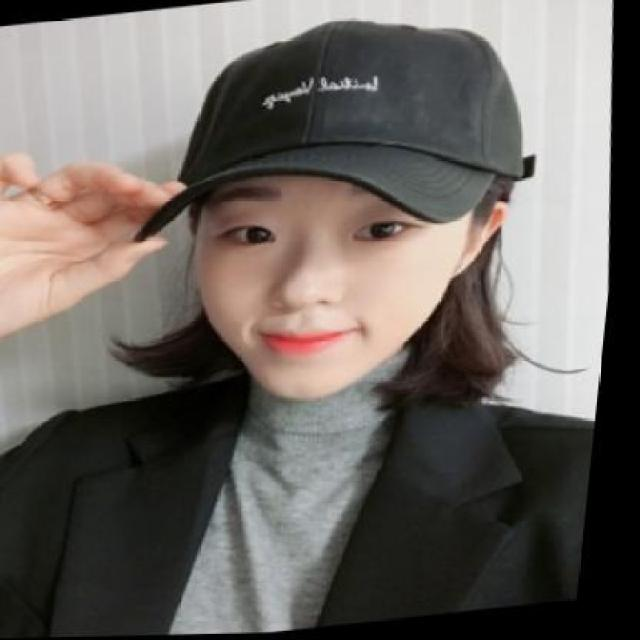hat: (108, 0, 567, 263)
